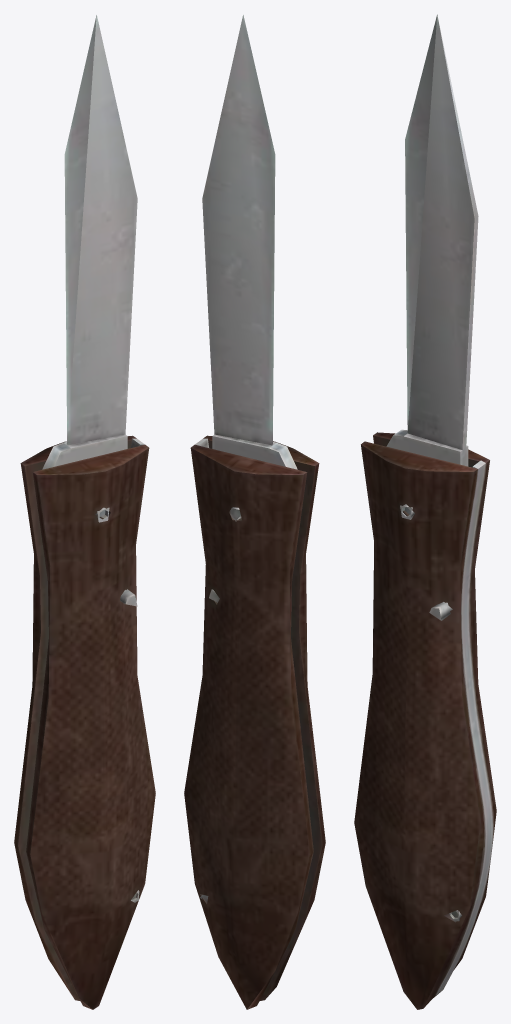
Rendered from fish_knife.glb.
The picture shows the model from 3 angles, left to right: view 1: azimuth 30°, elevation 25°; view 2: azimuth 150°, elevation 25°; view 3: azimuth 330°, elevation 25°; orthographic projection.
Parts seen in each view (by area): view 1: fish_knife_handle; view 2: fish_knife_handle; view 3: fish_knife_handle.
Part boxes in pixels (x1=…): fish_knife_handle: x1=14, y1=15, x2=155, y2=1009; fish_knife_handle: x1=184, y1=15, x2=325, y2=1009; fish_knife_handle: x1=354, y1=14, x2=496, y2=1009.
Size of the model in its own units: 0.0289 by 0.2157 by 0.0161.
1 material, 1 textured.
